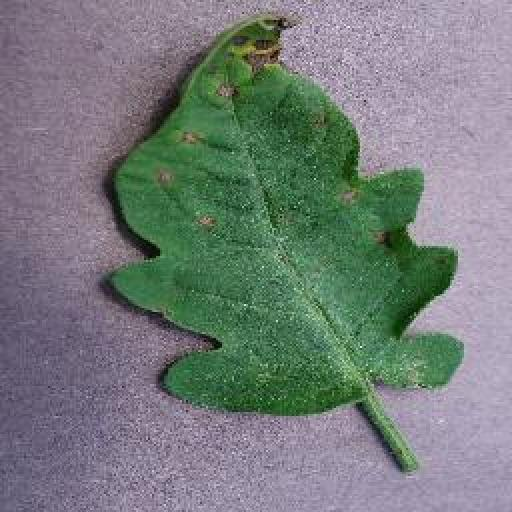Septoria: (102, 9, 466, 415)
